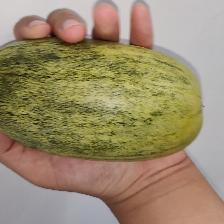gua: (27, 55, 196, 145)
